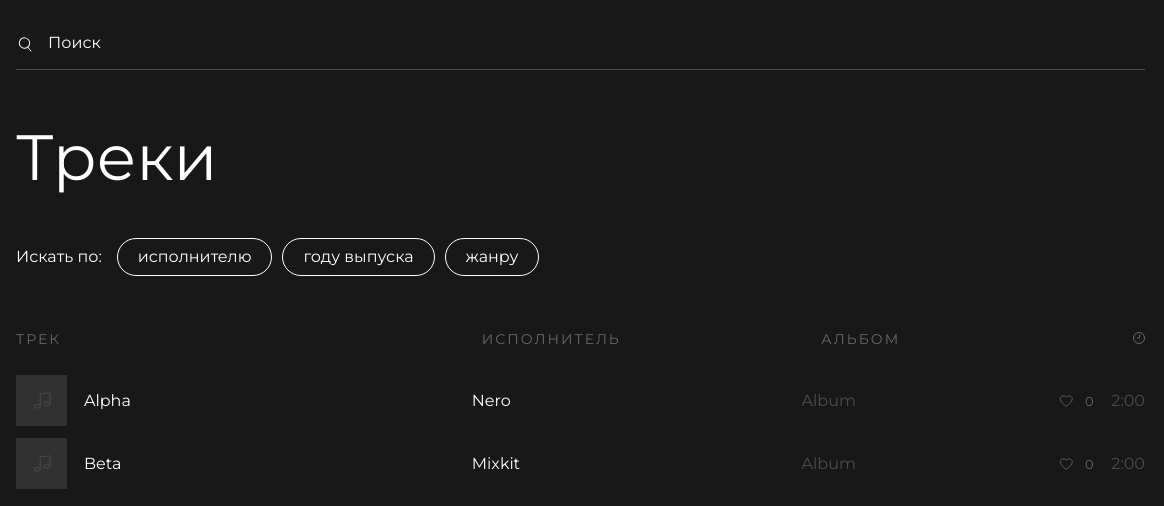
it: Centerblock › shows empty state when no tracks match
Type "zzz" into the search field with placeholder "Поиск". click: [592, 44]
box: [38,18,1145,69]
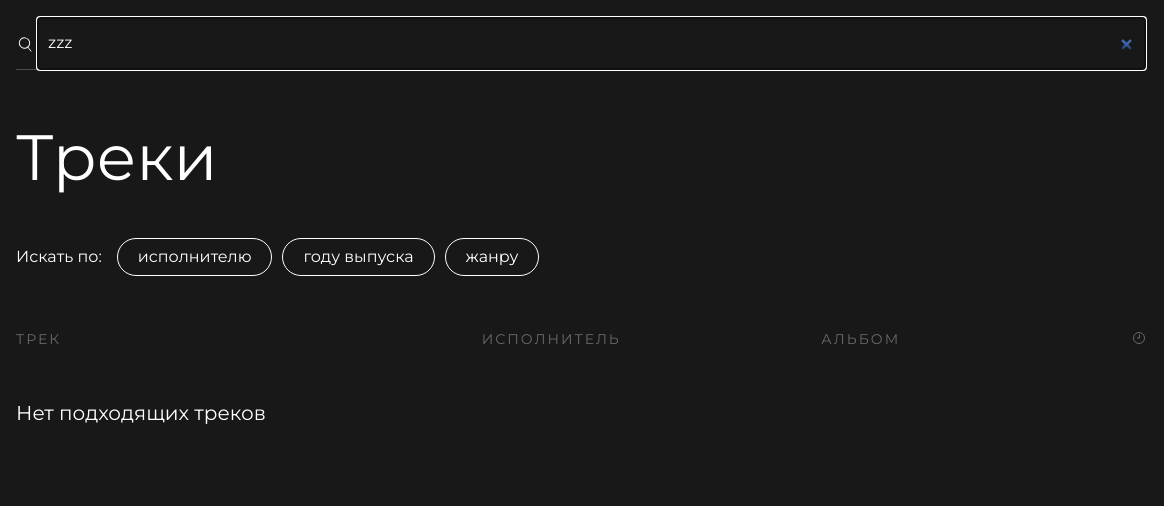
Check: the text "Нет подходящих треков" is shown, box [16,401,266,425]
